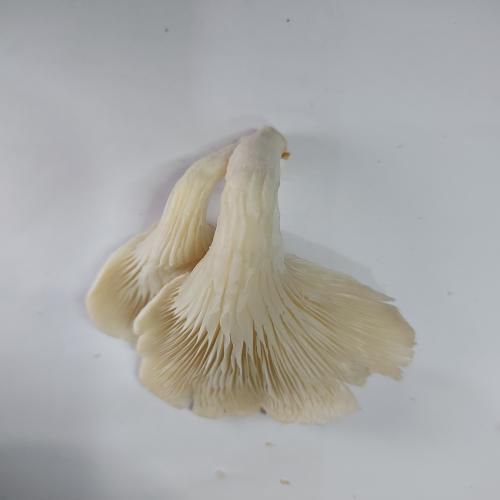Oyster Mushroom: (85, 125, 417, 425)
